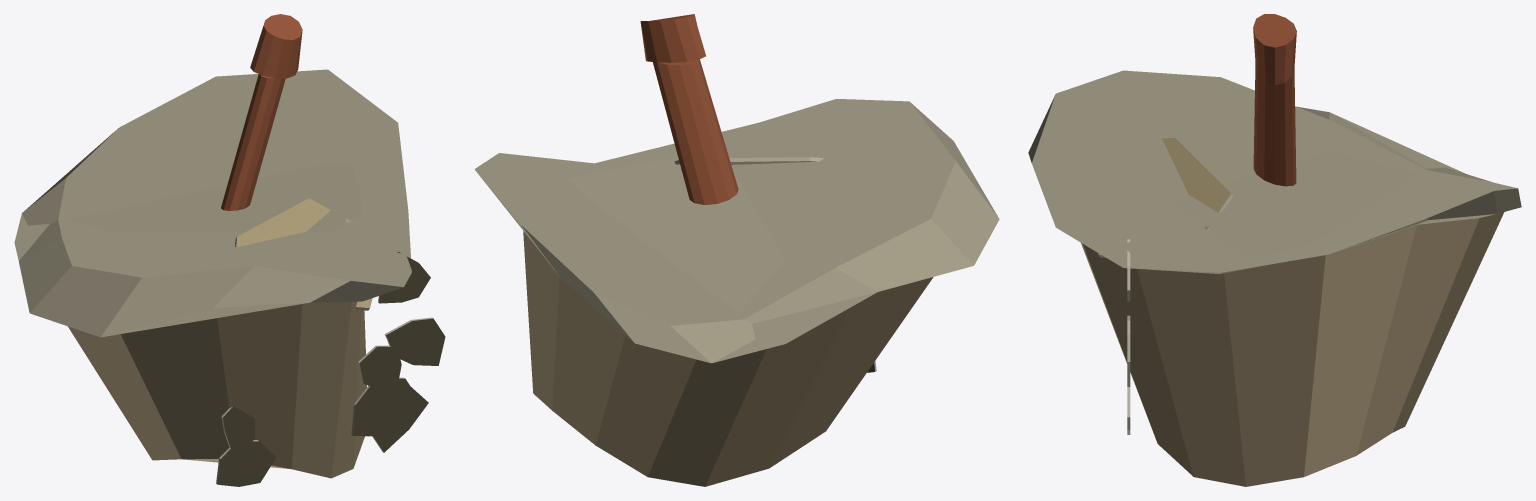
File: Cup_Squashed_Stained.glb
3 views of the same model, side by side, from view 1: azimuth 30°, elevation 25°; view 2: azimuth 150°, elevation 25°; view 3: azimuth 270°, elevation 25° (orthographic). The views are drawn at different scales.
Parts seen in each view (by area): view 1: Litter; view 2: Litter; view 3: Litter.
Boxes of the visible parts, x1=… form: Litter: x1=14, y1=14, x2=445, y2=486; Litter: x1=474, y1=14, x2=999, y2=486; Litter: x1=1028, y1=14, x2=1521, y2=486.
Bounding box in the file's own units: 0.2493 × 0.2411 × 0.2462.
